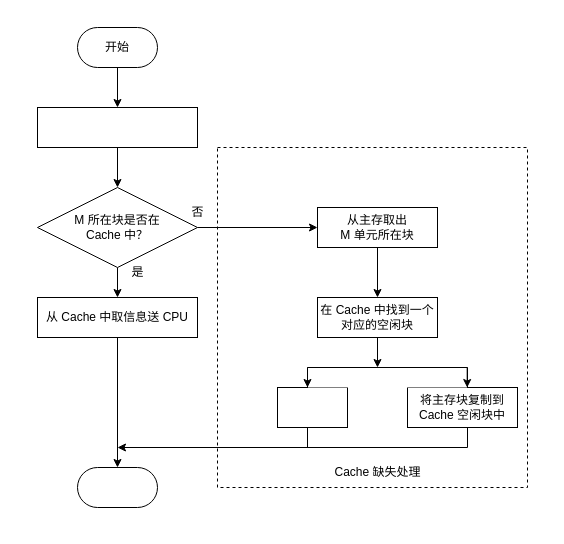
The diagram is 564 pixels wide and 544 high, and some of its shapes have lost their labels. Each missing label, with the centre of its shape:
"CPU 给出主存地址 M" goes at (x=117, y=127).
"将 M 单元 内容送 CPU" goes at (x=312, y=407).
"结束" goes at (x=117, y=487).
